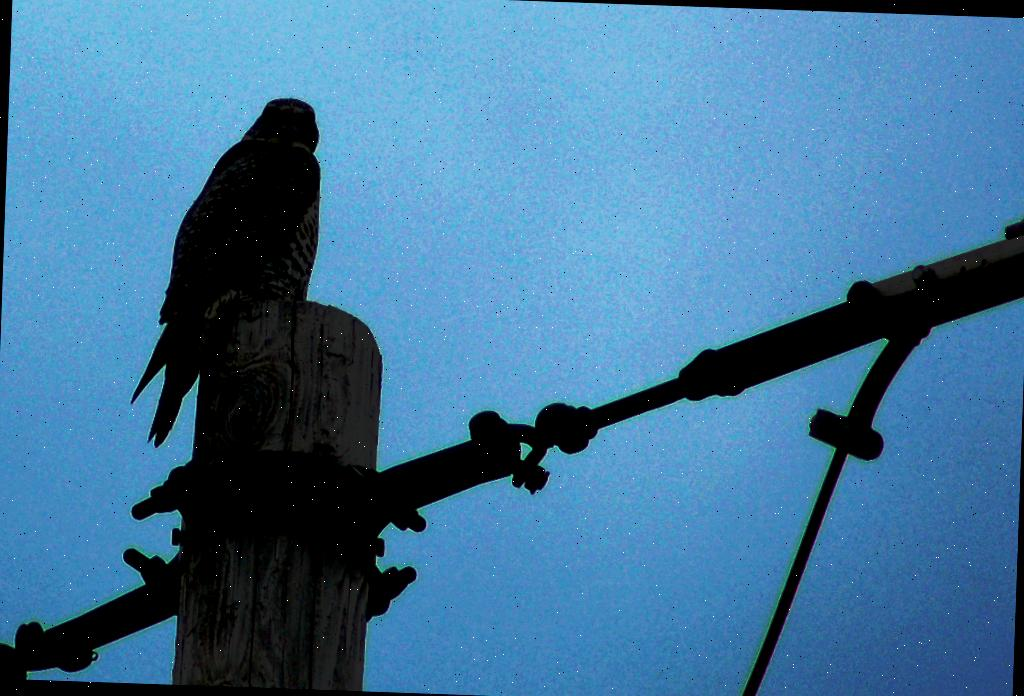Owl: (124, 94, 324, 452)
